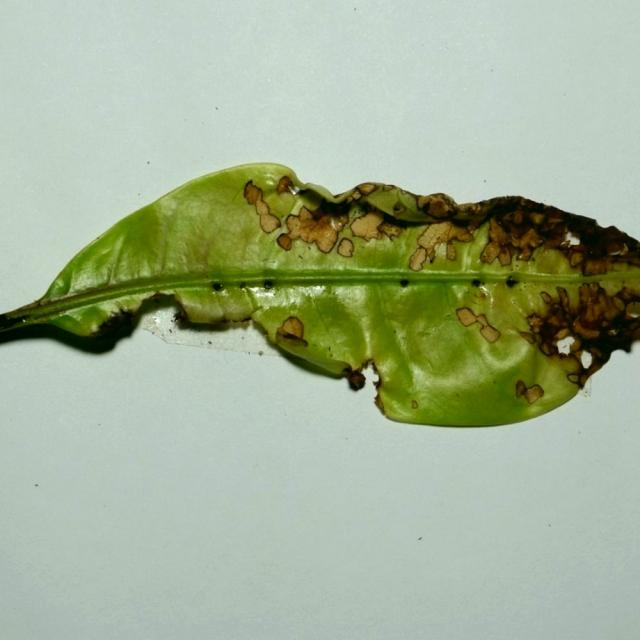Anthracnose: (408, 220, 473, 270), (568, 282, 626, 337), (527, 290, 576, 351), (483, 214, 540, 266), (285, 207, 343, 254), (241, 173, 282, 236), (560, 298, 619, 334), (454, 306, 501, 344), (575, 352, 608, 385), (349, 211, 385, 241), (441, 223, 474, 247), (579, 297, 606, 326), (420, 195, 454, 218), (514, 379, 544, 405), (487, 220, 512, 249), (278, 316, 305, 341), (276, 330, 308, 348), (608, 249, 640, 267), (573, 319, 600, 339), (285, 214, 305, 240), (409, 246, 428, 272), (377, 221, 403, 240), (564, 351, 586, 373), (481, 241, 502, 264), (452, 201, 484, 216), (583, 258, 609, 276), (567, 245, 587, 268), (243, 180, 262, 204), (455, 307, 478, 326), (544, 231, 567, 249), (347, 369, 366, 390), (276, 175, 295, 195), (527, 313, 548, 331), (579, 283, 594, 306), (331, 212, 349, 231), (310, 206, 329, 222), (606, 240, 626, 255), (354, 183, 377, 196), (298, 206, 315, 223), (528, 212, 547, 225), (509, 210, 525, 225), (519, 331, 537, 344), (374, 394, 386, 413), (540, 341, 555, 356), (498, 250, 511, 267), (567, 373, 583, 386), (515, 380, 527, 397), (587, 347, 604, 359), (557, 286, 568, 304), (393, 201, 406, 215), (613, 296, 625, 311), (578, 372, 590, 387), (540, 291, 552, 305), (425, 246, 436, 261), (547, 215, 564, 224), (588, 282, 599, 295), (350, 190, 361, 201), (411, 400, 418, 409)
Mango: (0, 163, 639, 431)
